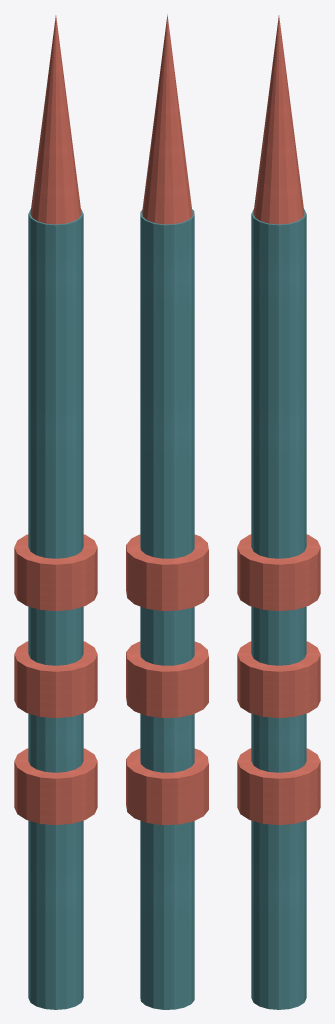
The model's file is atlas100-s071-a05.glb.
3 renders of one model, left to right at view 1: azimuth 90°, elevation 25°; view 2: azimuth 150°, elevation 25°; view 3: azimuth 270°, elevation 25°, orthographic.
Visible parts, largest first — view 1: atlas100-s071-a05:part-000, atlas100-s071-a05:part-004, atlas100-s071-a05:part-001, atlas100-s071-a05:part-002, atlas100-s071-a05:part-003; view 2: atlas100-s071-a05:part-000, atlas100-s071-a05:part-004, atlas100-s071-a05:part-001, atlas100-s071-a05:part-002, atlas100-s071-a05:part-003; view 3: atlas100-s071-a05:part-000, atlas100-s071-a05:part-004, atlas100-s071-a05:part-001, atlas100-s071-a05:part-002, atlas100-s071-a05:part-003.
Part boxes in pixels (bbox=[...]): atlas100-s071-a05:part-000: bbox=[28, 209, 83, 1009]; atlas100-s071-a05:part-004: bbox=[30, 15, 81, 224]; atlas100-s071-a05:part-001: bbox=[14, 748, 97, 824]; atlas100-s071-a05:part-002: bbox=[14, 641, 97, 717]; atlas100-s071-a05:part-003: bbox=[14, 534, 97, 610]; atlas100-s071-a05:part-000: bbox=[140, 209, 194, 1009]; atlas100-s071-a05:part-004: bbox=[142, 14, 192, 224]; atlas100-s071-a05:part-001: bbox=[126, 748, 208, 824]; atlas100-s071-a05:part-002: bbox=[126, 641, 208, 717]; atlas100-s071-a05:part-003: bbox=[126, 534, 208, 610]; atlas100-s071-a05:part-000: bbox=[251, 209, 306, 1009]; atlas100-s071-a05:part-004: bbox=[253, 15, 304, 224]; atlas100-s071-a05:part-001: bbox=[237, 748, 320, 824]; atlas100-s071-a05:part-002: bbox=[237, 641, 320, 717]; atlas100-s071-a05:part-003: bbox=[237, 534, 320, 610].
Size of the model in its own units: 0.1158 by 1.51 by 0.1158.
2 materials, 2 textured.
